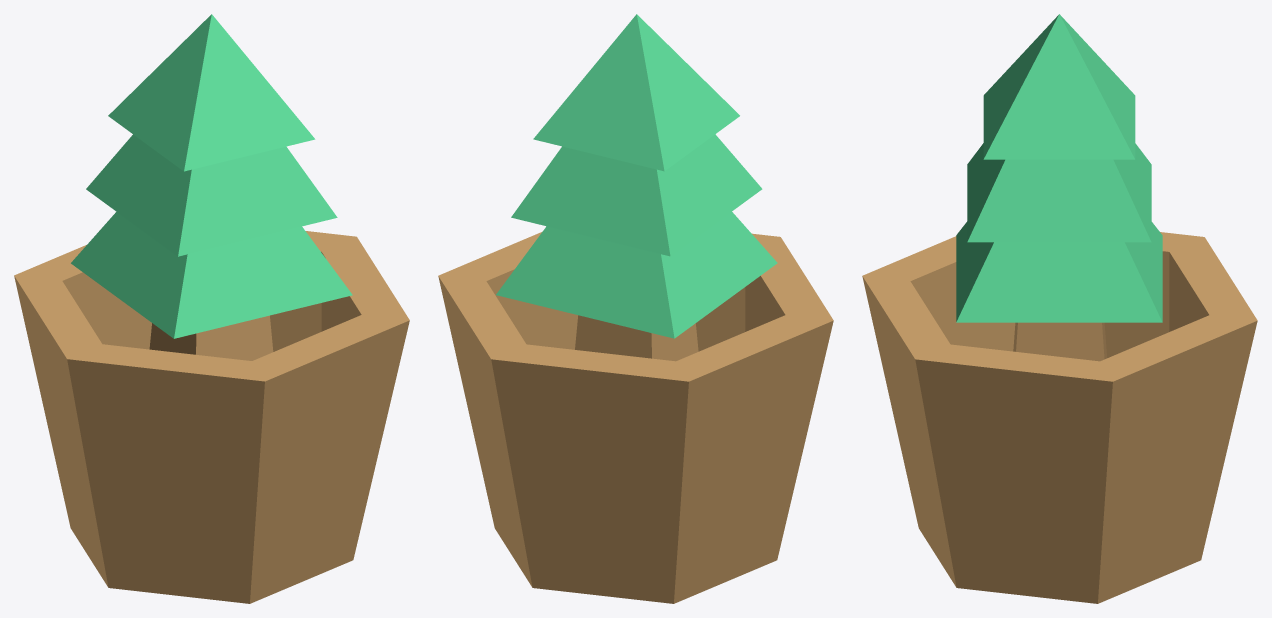
The model's file is plantSmall1.glb.
3 renders of one model, left to right at view 1: azimuth 30°, elevation 25°; view 2: azimuth 150°, elevation 25°; view 3: azimuth 270°, elevation 25°, orthographic.
Bounding box in the file's own units: 0.9466 × 1.4 × 0.9466.
